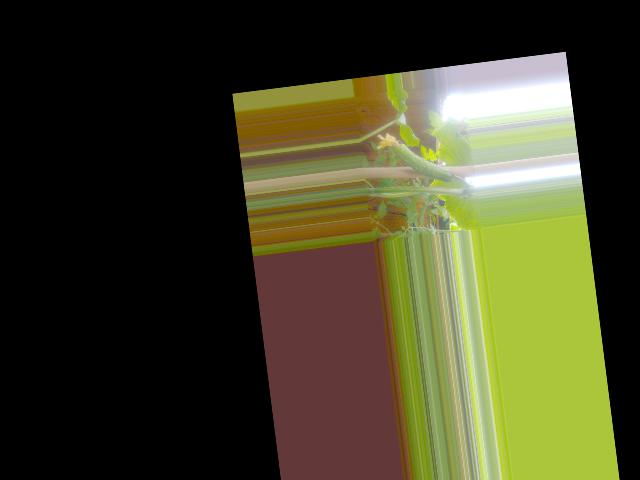cucumber: (374, 124, 454, 190)
